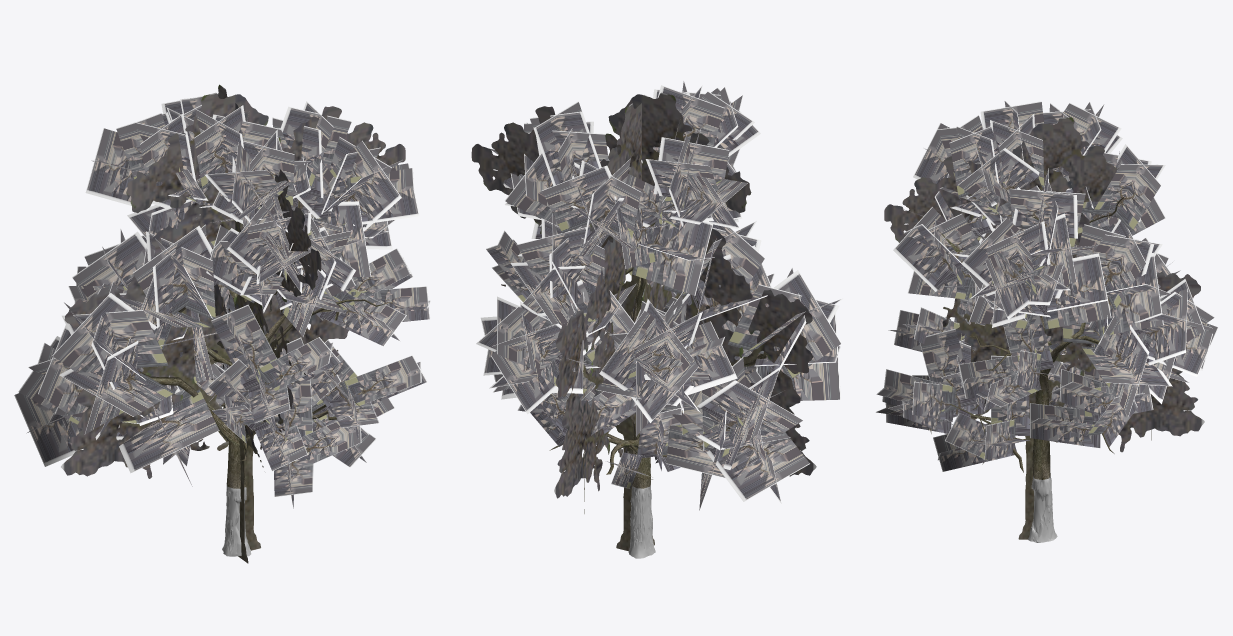
Rendered from Tree-Oak2D.fbx.
3 views of the same model, side by side, from view 1: azimuth 30°, elevation 25°; view 2: azimuth 150°, elevation 25°; view 3: azimuth 270°, elevation 25° (orthographic). The views are drawn at different scales.
Parts seen in each view (by area): view 1: Tree-Oak2D_LOD0, Billboard-Oak2D; view 2: Tree-Oak2D_LOD0, Billboard-Oak2D; view 3: Tree-Oak2D_LOD0, Billboard-Oak2D.
Boxes of the visible parts, left/top/right/bottom form: Tree-Oak2D_LOD0: left=14, top=93, right=430, bottom=556; Billboard-Oak2D: left=61, top=84, right=405, bottom=563; Tree-Oak2D_LOD0: left=476, top=81, right=842, bottom=558; Billboard-Oak2D: left=471, top=92, right=816, bottom=551; Tree-Oak2D_LOD0: left=876, top=101, right=1218, bottom=542; Billboard-Oak2D: left=884, top=117, right=1204, bottom=539.
Size of what is drawn, in the model's own units: 2650 by 3256 by 2302.
